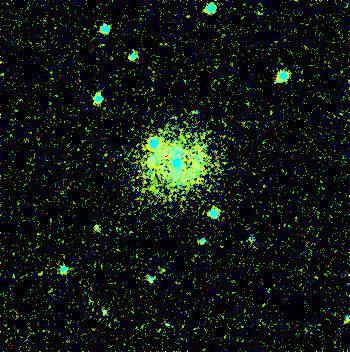star: (150, 255, 180, 285)
